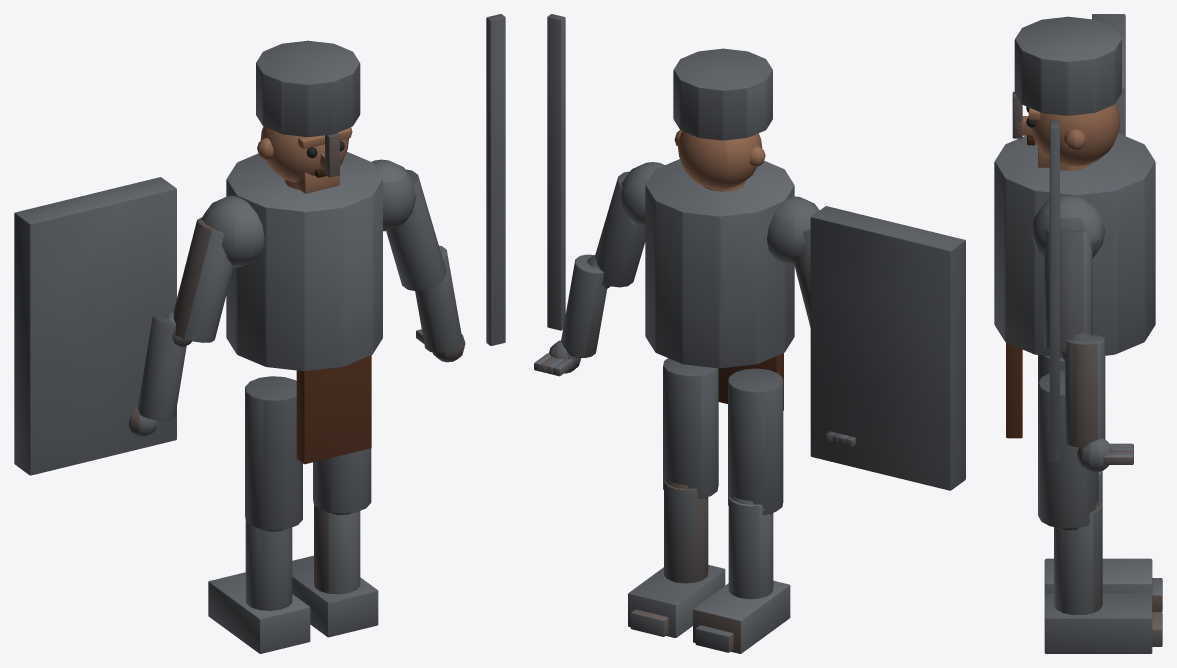
Rendered from unit_royal_tomb_warden.fbx.
The picture shows the model from 3 angles, left to right: view 1: azimuth 30°, elevation 25°; view 2: azimuth 150°, elevation 25°; view 3: azimuth 270°, elevation 25°; orthographic projection. The views are drawn at different scales.
Parts seen in each view (by area): view 1: unit_royal_tomb_warden; view 2: unit_royal_tomb_warden; view 3: unit_royal_tomb_warden.
Boxes of the visible parts, box(x1,y1,x2,y2) form: unit_royal_tomb_warden: box(14, 14, 505, 653); unit_royal_tomb_warden: box(534, 14, 965, 653); unit_royal_tomb_warden: box(994, 14, 1162, 653).
Bounding box in the file's own units: 1.61 × 1.94 × 0.4993.
